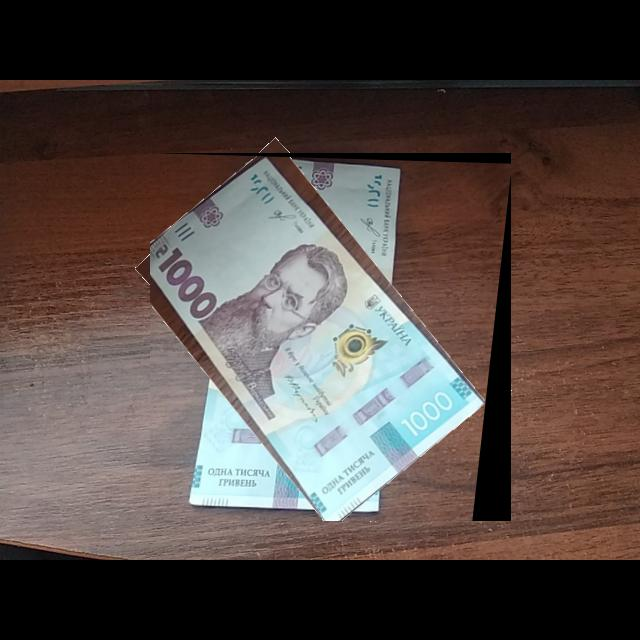1000uah: (150, 156, 492, 522)
